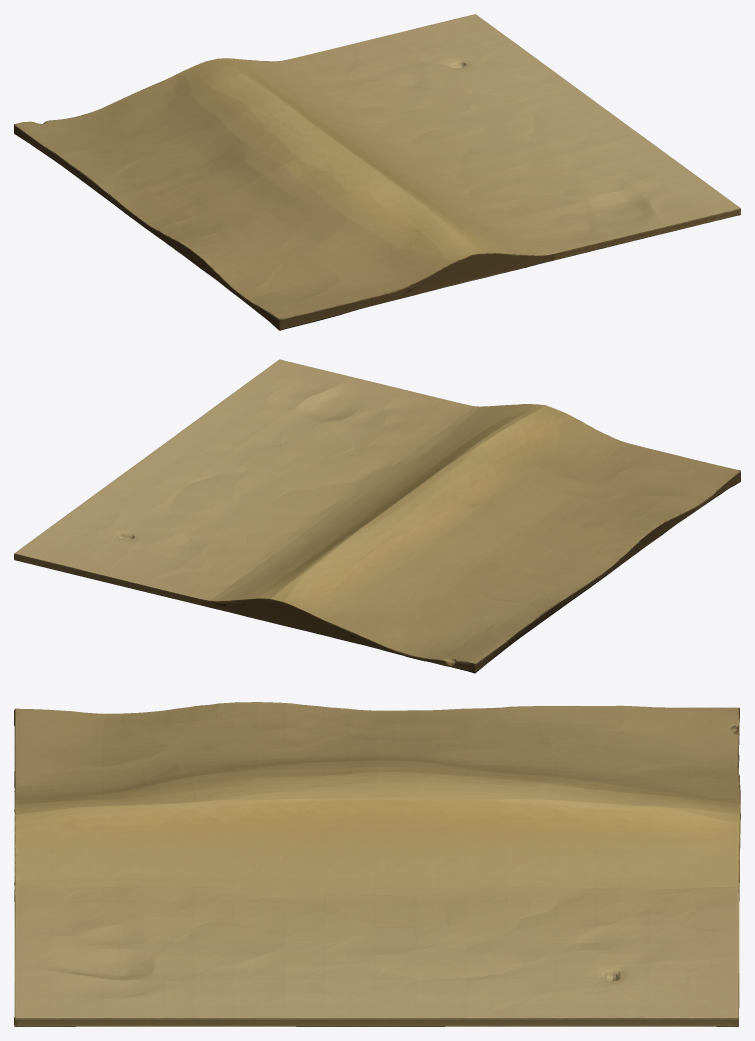
3 views of the same model, one above another, from view 1: azimuth 30°, elevation 25°; view 2: azimuth 150°, elevation 25°; view 3: azimuth 270°, elevation 25° (orthographic). The views are drawn at different scales.
Parts seen in each view (by area): view 1: world; view 2: world; view 3: world.
Boxes of the visible parts, x1,y1,x2,y2 form: world: (14,14,740,330); world: (14,359,740,673); world: (14,702,740,1026).
Size of the model in its own units: 1 by 0.0876 by 0.9995.
Materials: 3 (1 with a texture image).
